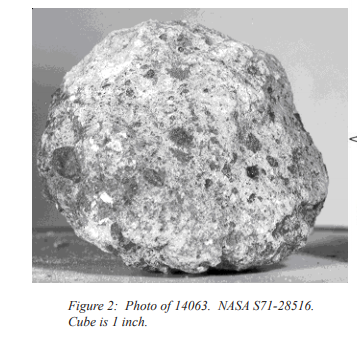Breccia: (34, 10, 342, 279), (106, 75, 296, 261)
